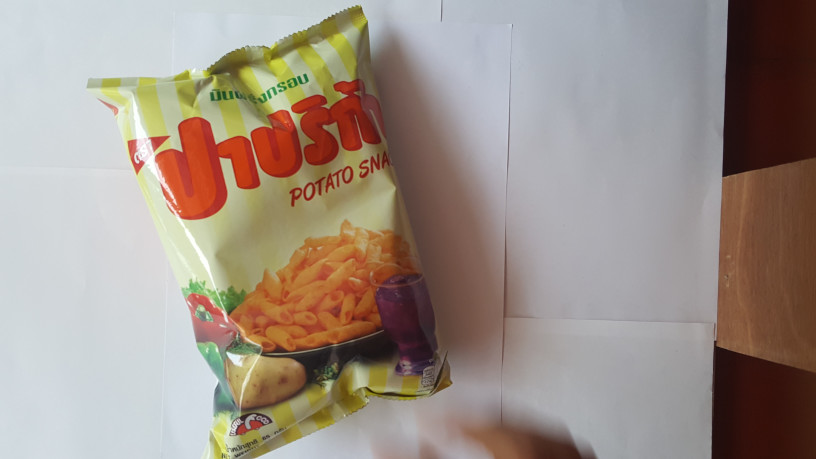paprika: (81, 16, 480, 447)
